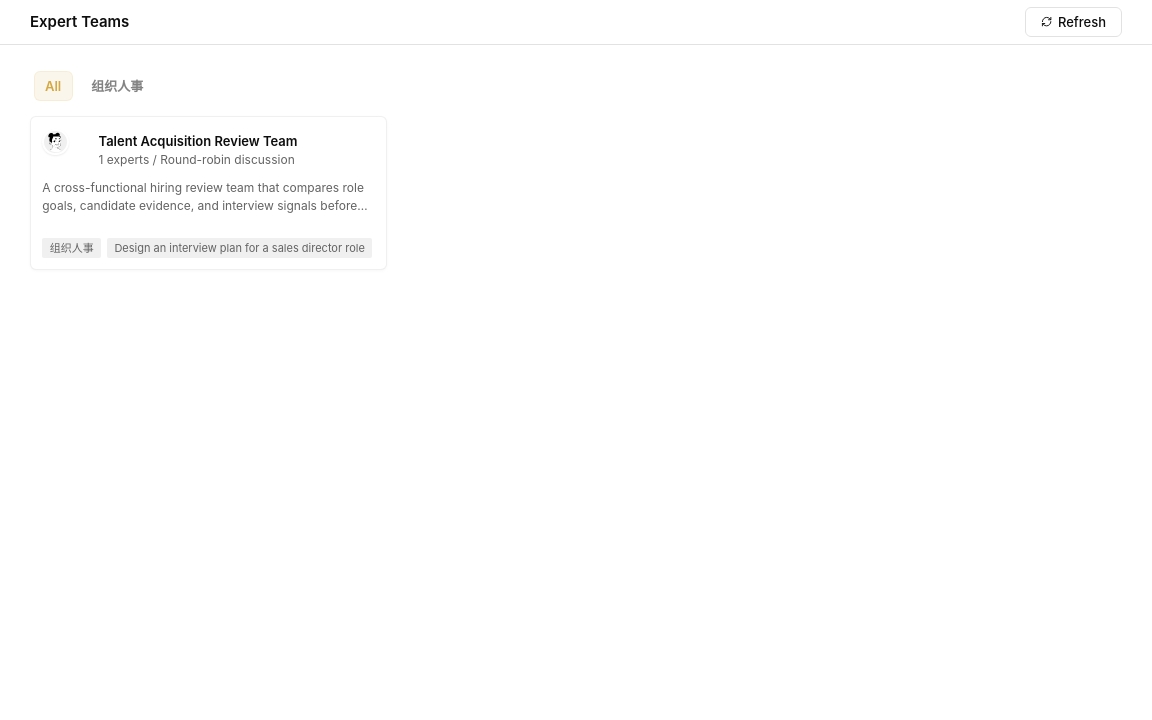
Test: ExpertTeamsPage › renders localized expert team names from server snapshots in English
expect the text "Talent Acquisition Review Team" is shown: met, box [98,130,298,152]
expect the text "1 experts / Round-robin discussion" is shown: met, box [98,152,298,167]
Click the button with aria-label "View Talent Acquisition Review Team details" at (208, 193), box [30,116,386,270]
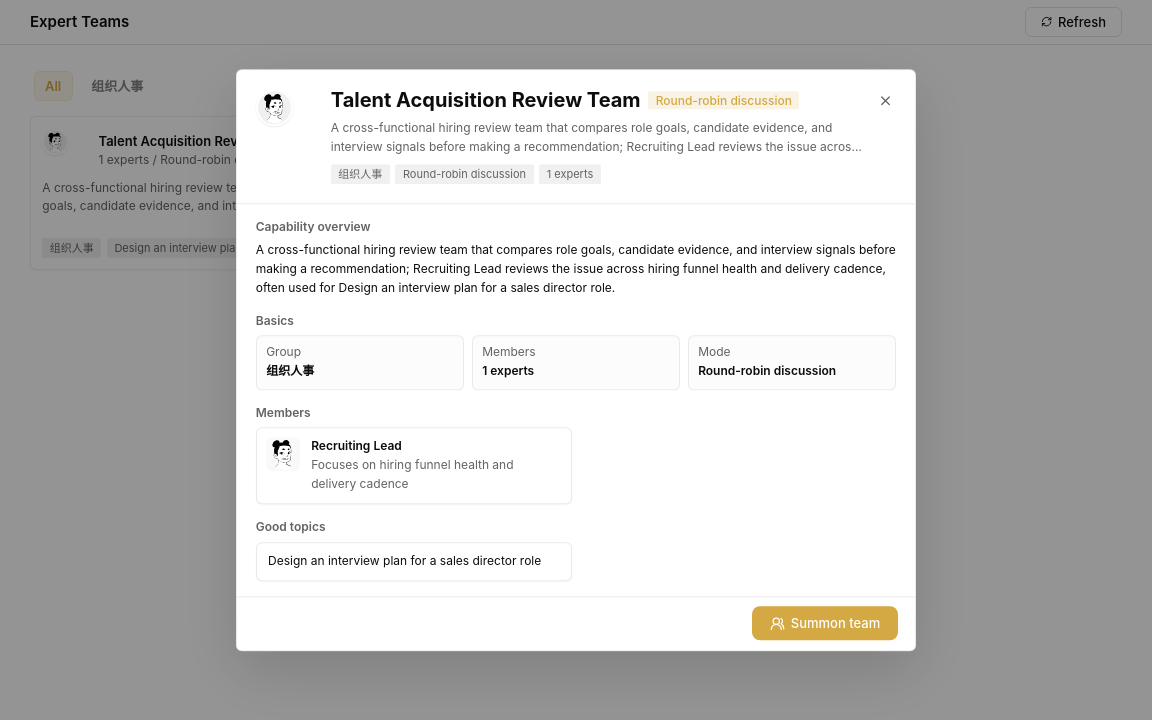
expect the text "Recruiting Lead" is shown: met, box [311,439,402,454]
